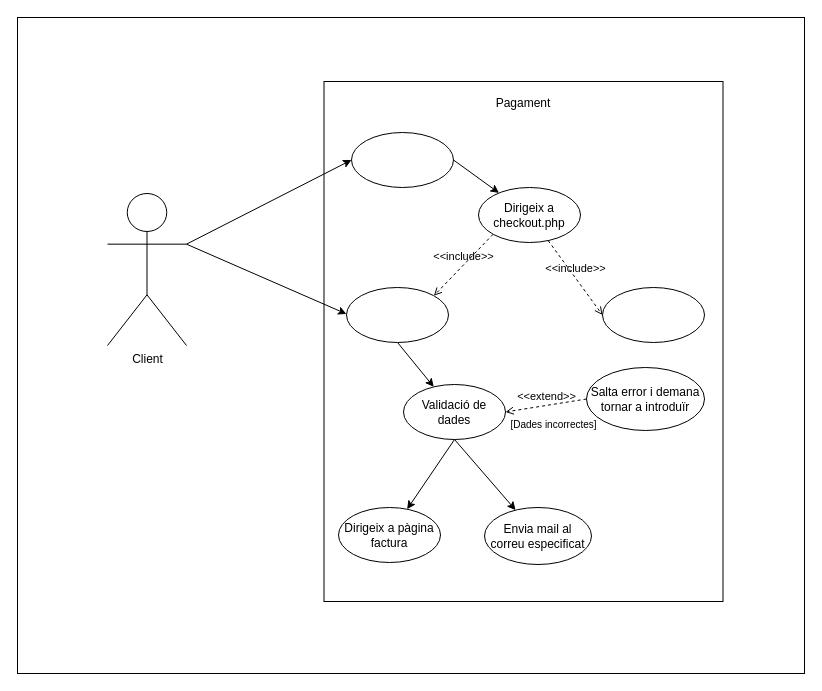
The diagram is 822 pixels wide and 691 high, and some of its shapes have lost their labels. Each missing label, with the centre of its shape:
"Clica a botó comprar" goes at point 402,160.
"Omplir formulari.php" goes at point 397,314.
"Printar cesta" goes at point 653,314.
